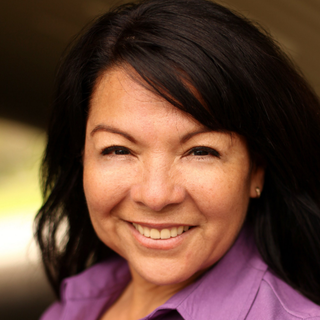eye: (177, 141, 224, 167), (95, 139, 141, 163)
